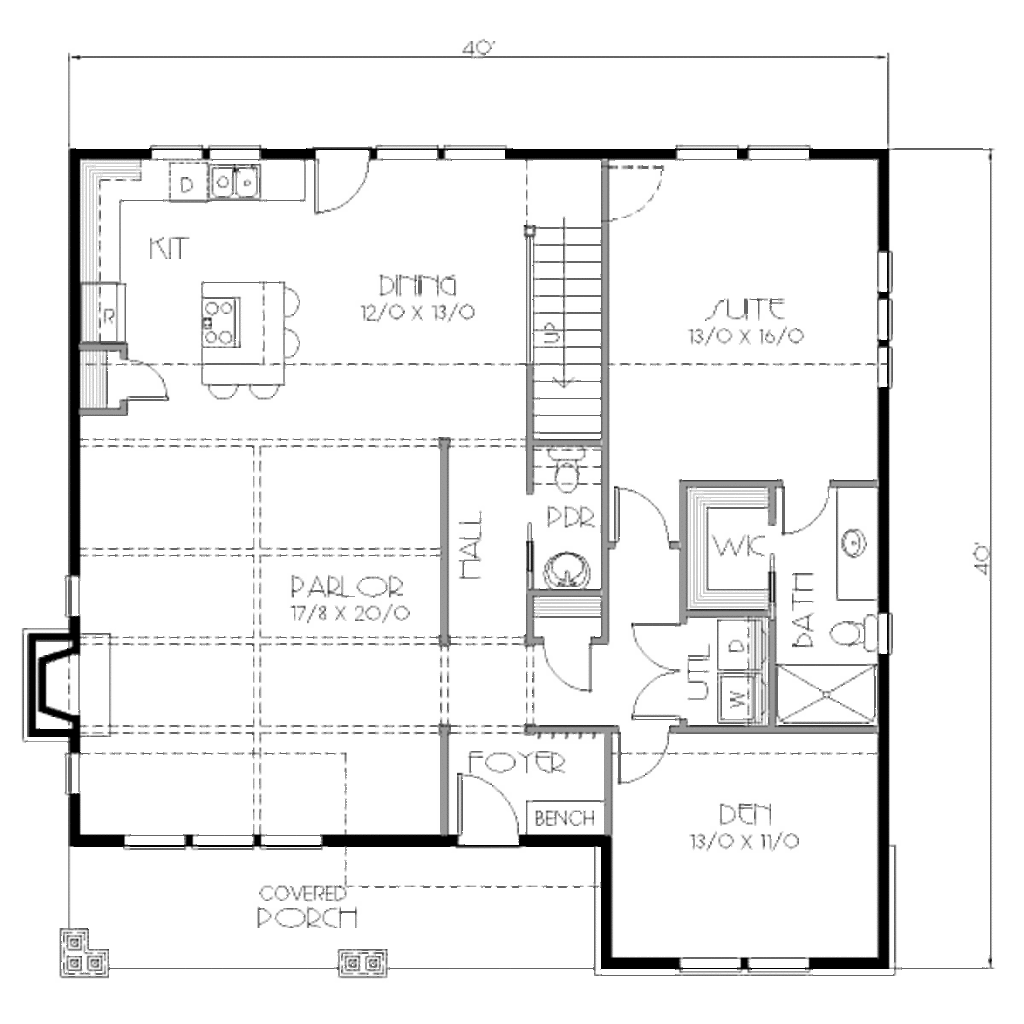door: (628, 625, 683, 724), (459, 767, 520, 849), (313, 141, 372, 219), (609, 727, 678, 789), (603, 483, 673, 544), (536, 628, 597, 694), (122, 352, 173, 410), (777, 480, 827, 533)
kitchen_bar: (192, 267, 314, 400)
large_sink: (816, 605, 894, 658), (542, 444, 591, 505)
small_sink: (534, 546, 594, 589)
stairs: (519, 222, 609, 435)
twin_sink: (197, 157, 269, 202)
window: (127, 830, 322, 852), (672, 949, 811, 972), (144, 139, 214, 167), (677, 139, 744, 166), (439, 142, 511, 166), (755, 142, 816, 166), (870, 292, 894, 350), (875, 242, 897, 305), (877, 347, 898, 402), (380, 144, 441, 161), (211, 144, 259, 161)
